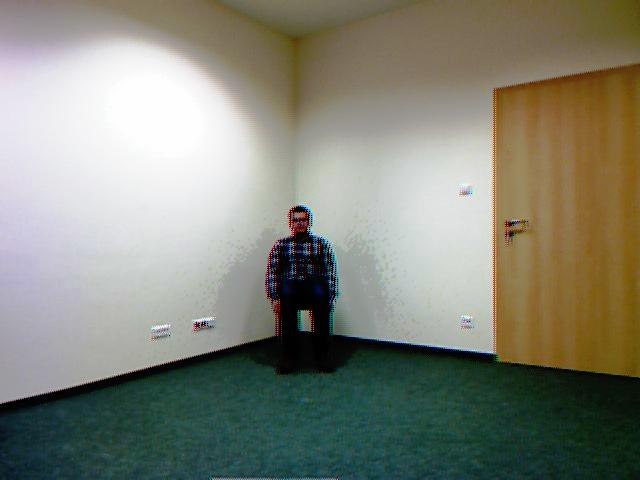sitting: (258, 196, 349, 391)
